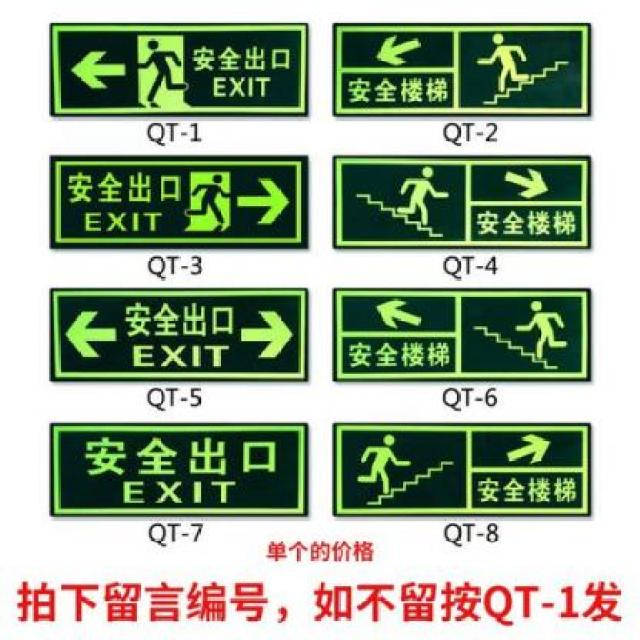exit_sign: (41, 8, 314, 124), (326, 146, 599, 257), (322, 15, 600, 120), (328, 412, 590, 522), (47, 148, 310, 255), (325, 280, 593, 385), (46, 280, 312, 383), (44, 416, 310, 518)
